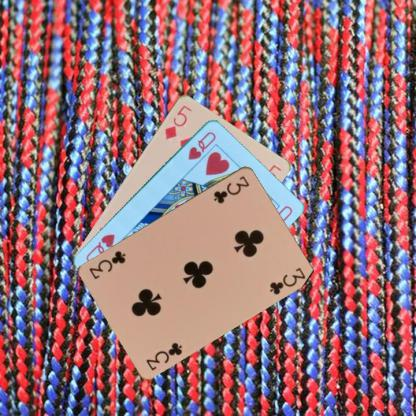3c: (143, 339, 184, 372), (211, 172, 251, 204)
5d: (162, 102, 193, 142)
Qh: (185, 129, 217, 161)
